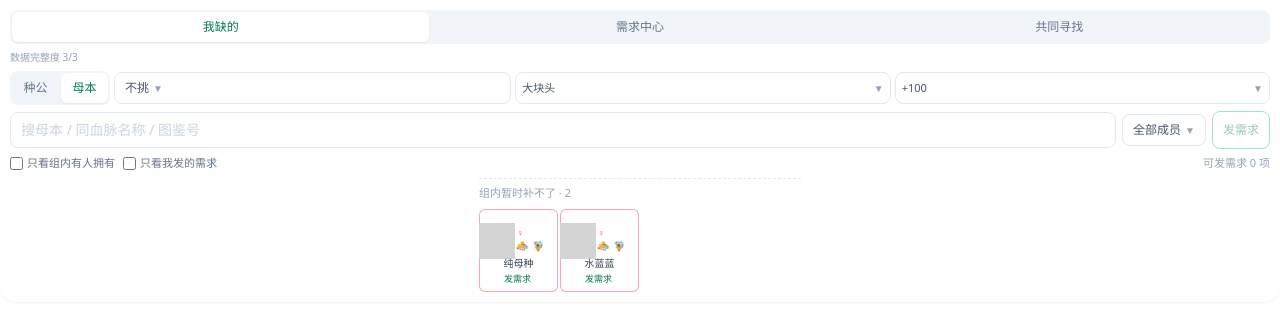
it: MotherGroupResources 三视图 › 需求中心：需求卡只留 名称 + 性格 + 动作（不再写怎么配/谁想要）
Click the button with test id "mother-view-mine" at (640,27), box [431,12,849,42]
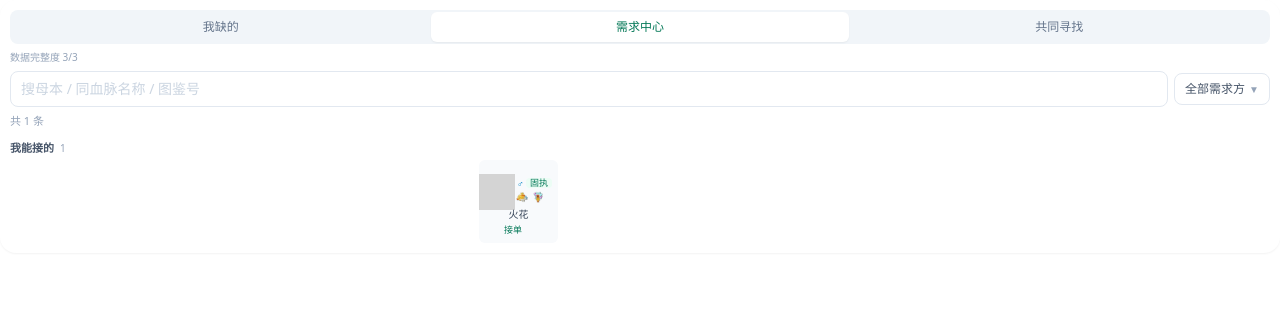
expect the list item with test id "mother-demand-row" shows "火花": met, box [508,207,528,221]
expect the list item with test id "mother-demand-row" shows "固执": met, box [530,176,548,189]
expect the button with test id "mother-demand-claim" is shown: met, box [504,225,522,236]
